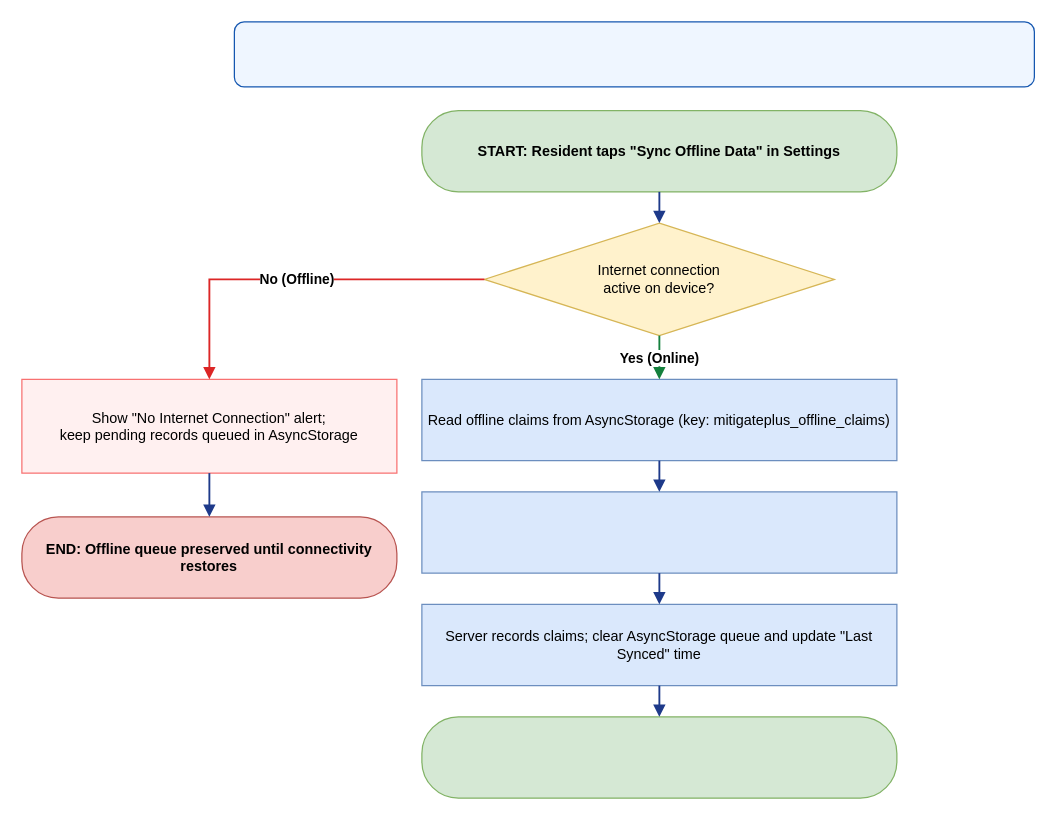
Some shapes in this 1056 by 820 pixel diagram are drawn without their labels. Here are the shapes that lost their labels. From the top down, the centre of each, then its label:
the point at 633,54: PF-R11: Process Flow - Sync Offline Data Actor: Resident Linked Use Case: UC-R11
the point at 659,532: Send POST /api/distributions/sync-offline-claims with queued claim objects
the point at 659,757: END: All offline data synchronized with central database
